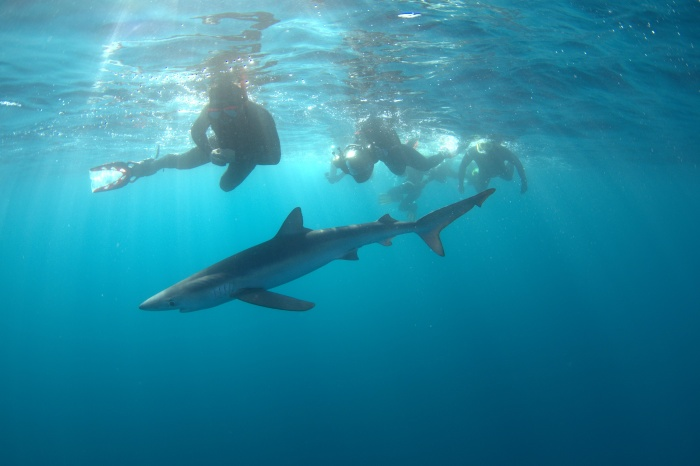Azul: (131, 186, 501, 342)
